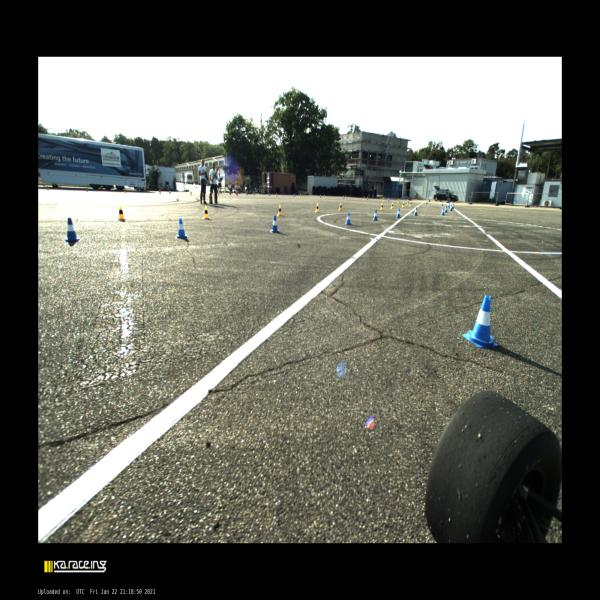blue_cone: (462, 296, 498, 348), (64, 218, 80, 242), (176, 218, 189, 238), (270, 216, 280, 232), (345, 212, 352, 225), (372, 210, 378, 220), (396, 208, 400, 218), (414, 207, 418, 216), (441, 208, 445, 215), (444, 206, 448, 212), (450, 205, 452, 211), (441, 201, 443, 206), (366, 197, 369, 200), (387, 198, 390, 201), (448, 203, 450, 207), (169, 190, 171, 194), (453, 203, 454, 209), (246, 192, 248, 195), (268, 192, 270, 195), (294, 194, 296, 197), (320, 194, 321, 198), (426, 201, 427, 204), (343, 195, 344, 198)
yellow_cone: (118, 206, 126, 220), (203, 206, 210, 219), (277, 205, 283, 216), (314, 204, 320, 212), (338, 203, 343, 211), (380, 203, 384, 210), (390, 202, 394, 209), (409, 201, 412, 206), (85, 187, 88, 192), (402, 202, 404, 208), (382, 197, 384, 202), (299, 193, 301, 198), (253, 192, 255, 197), (218, 191, 220, 196), (397, 199, 399, 203), (344, 195, 346, 199), (159, 190, 161, 194), (190, 192, 192, 196), (124, 189, 126, 193), (407, 201, 409, 204), (363, 197, 365, 200), (324, 194, 325, 199), (276, 193, 277, 197)
